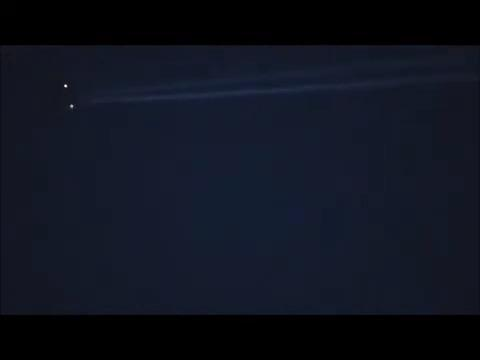Plane: (45, 55, 399, 128)
